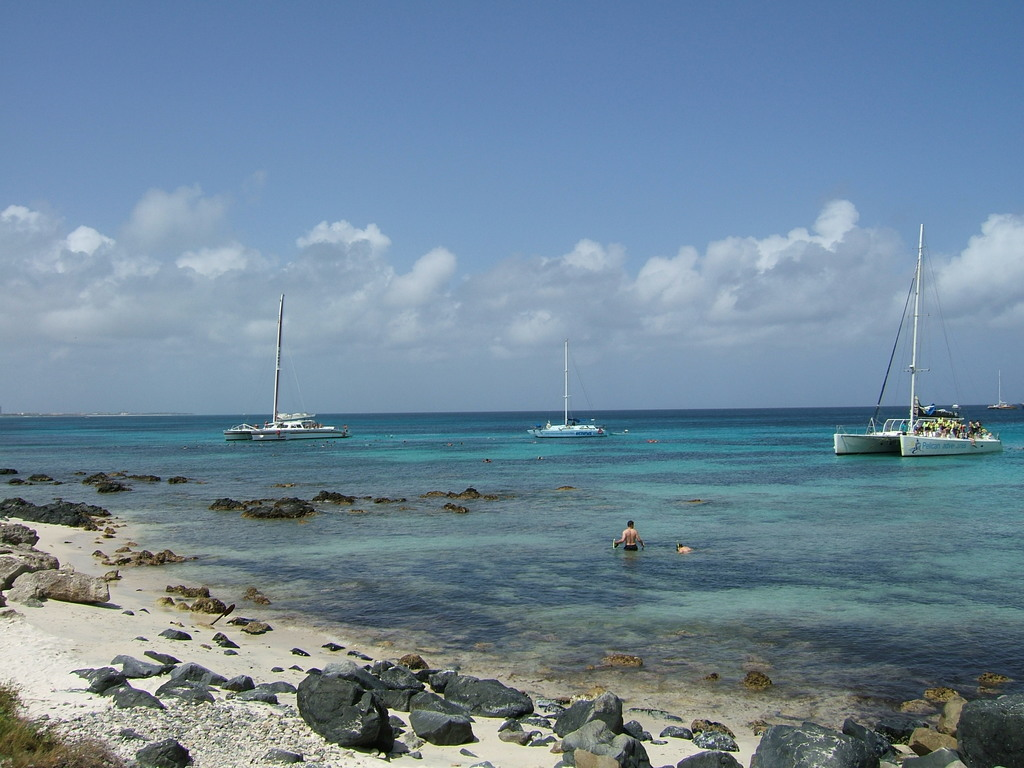boat: (810, 197, 1015, 482), (199, 272, 365, 451), (503, 322, 647, 449), (973, 352, 1017, 415)
